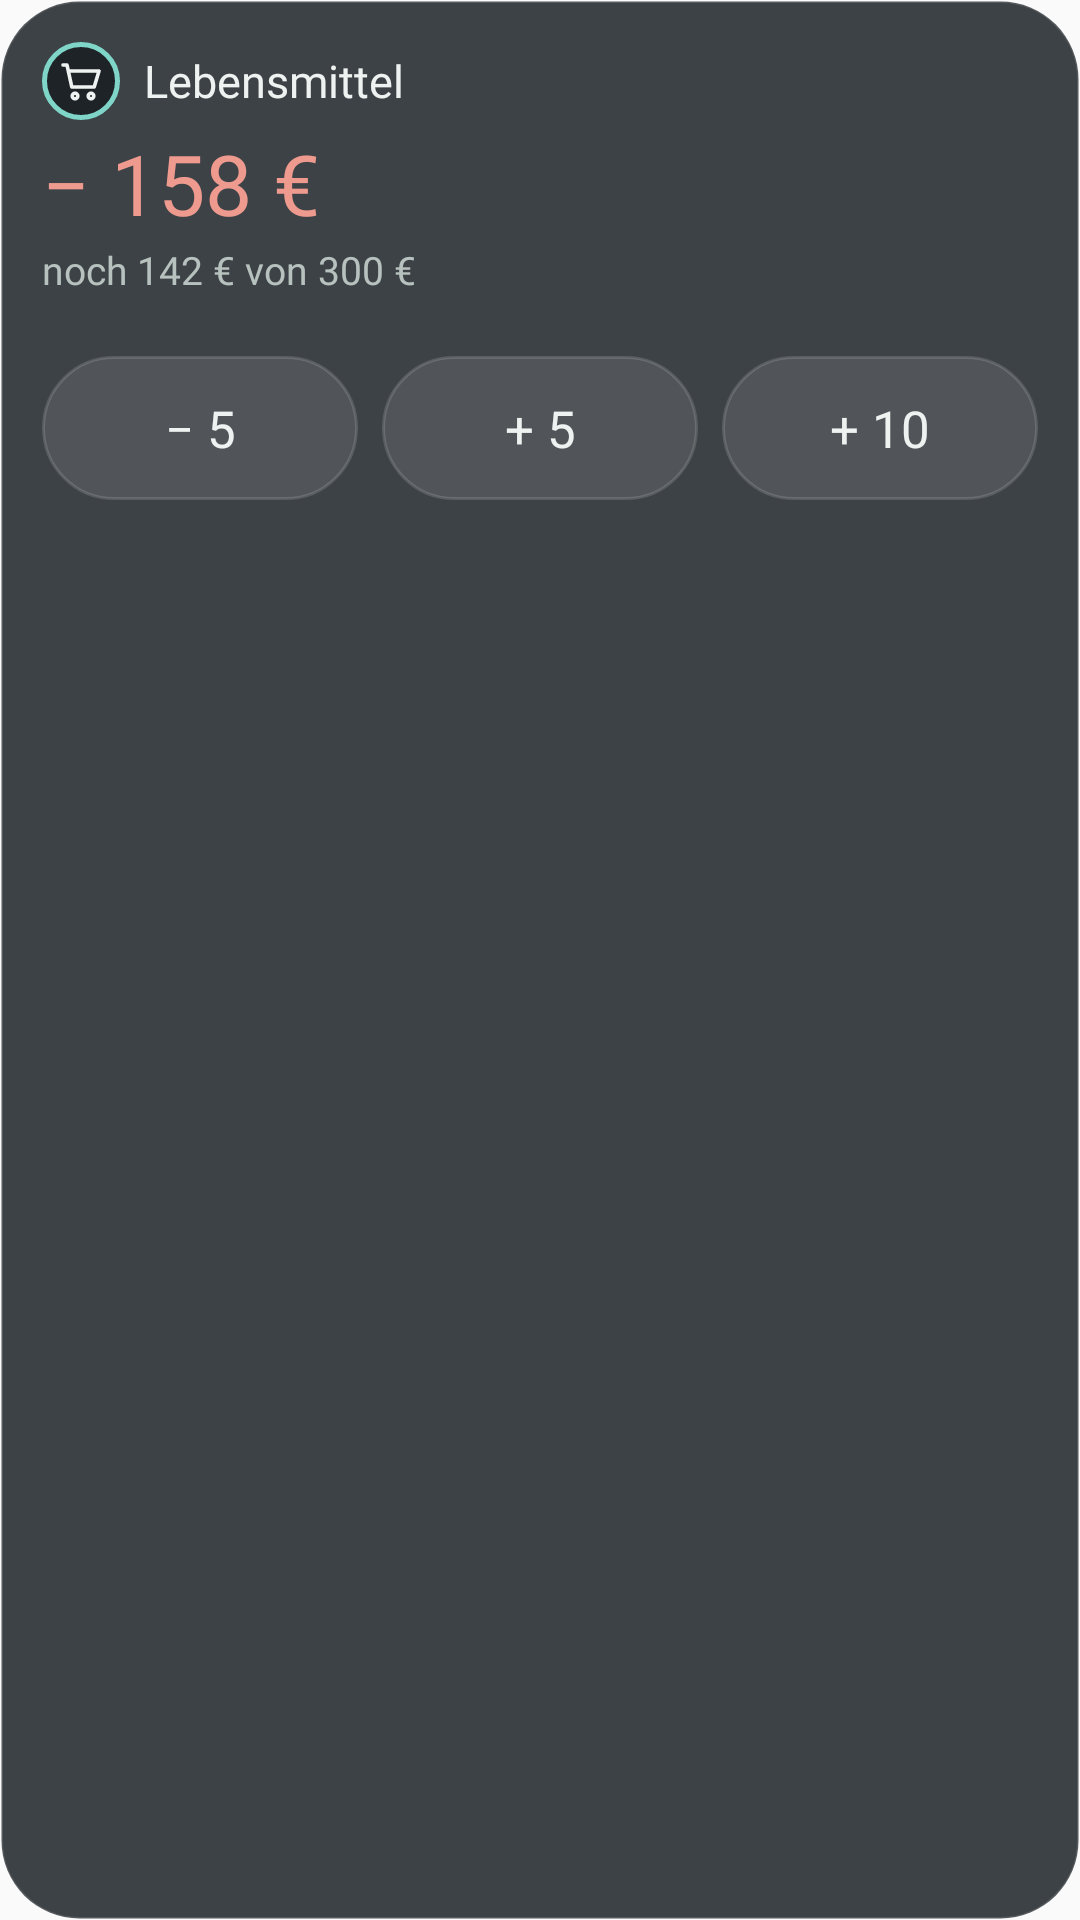

Screen size 1080 x 1920. Icon name, then its center in pixels as point (x, y):
wagen: point (81, 81)
